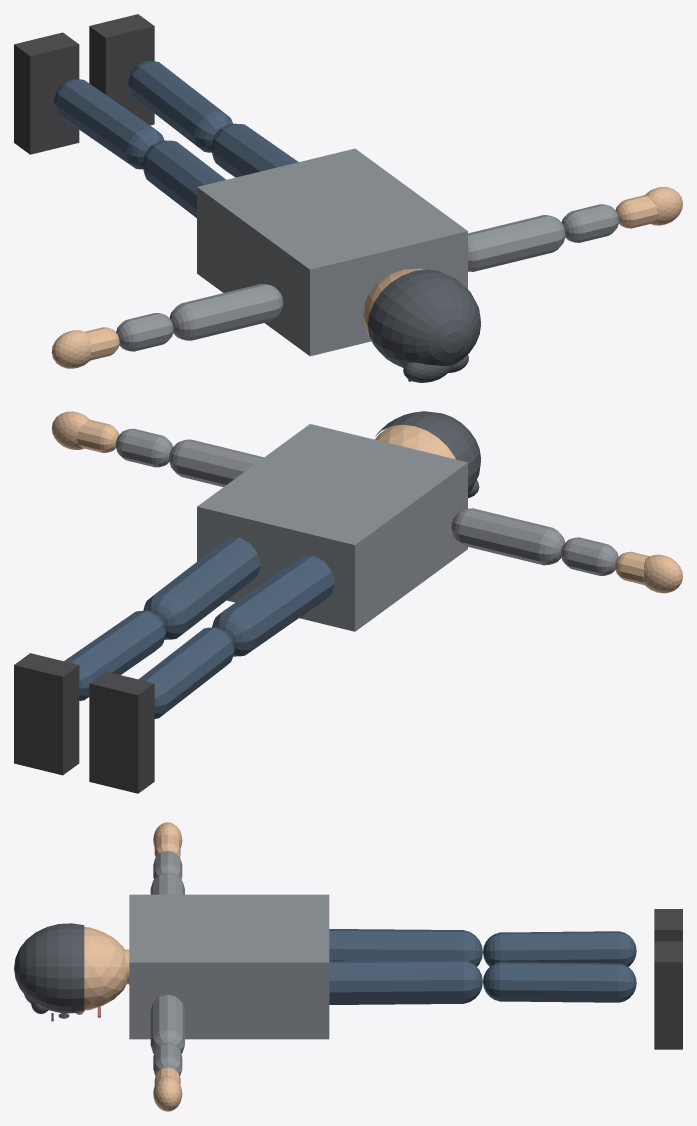
The model's file is CHAR_AVATAR_VARIANT_001.glb.
3 renders of one model, top to bottom at view 1: azimuth 30°, elevation 25°; view 2: azimuth 150°, elevation 25°; view 3: azimuth 270°, elevation 25°, orthographic. The views are drawn at different scales.
Parts seen in each view (by area): view 1: CHAR_AVATAR_VARIANT_001_torso_jacket, CHAR_AVATAR_VARIANT_001_hair_cap, CHAR_AVATAR_VARIANT_001_shoe_L, CHAR_AVATAR_VARIANT_001_shin_L, CHAR_AVATAR_VARIANT_001_shoe_R, CHAR_AVATAR_VARIANT_001_shin_R, CHAR_AVATAR_VARIANT_001_upper_arm_L, CHAR_AVATAR_VARIANT_001_upper_arm_R, CHAR_AVATAR_VARIANT_001_thigh_L, CHAR_AVATAR_VARIANT_001_thigh_R, CHAR_AVATAR_VARIANT_001_forearm_L, CHAR_AVATAR_VARIANT_001_forearm_R (+6 smaller); view 2: CHAR_AVATAR_VARIANT_001_torso_jacket, CHAR_AVATAR_VARIANT_001_shoe_R, CHAR_AVATAR_VARIANT_001_shoe_L, CHAR_AVATAR_VARIANT_001_thigh_L, CHAR_AVATAR_VARIANT_001_thigh_R, CHAR_AVATAR_VARIANT_001_upper_arm_L, CHAR_AVATAR_VARIANT_001_shin_L, CHAR_AVATAR_VARIANT_001_shin_R, CHAR_AVATAR_VARIANT_001_upper_arm_R, CHAR_AVATAR_VARIANT_001_hair_cap, CHAR_AVATAR_VARIANT_001_forearm_L, CHAR_AVATAR_VARIANT_001_forearm_R (+5 smaller); view 3: CHAR_AVATAR_VARIANT_001_torso_jacket, CHAR_AVATAR_VARIANT_001_thigh_R, CHAR_AVATAR_VARIANT_001_shin_R, CHAR_AVATAR_VARIANT_001_hair_cap, CHAR_AVATAR_VARIANT_001_thigh_L, CHAR_AVATAR_VARIANT_001_shin_L, CHAR_AVATAR_VARIANT_001_shoe_R, CHAR_AVATAR_VARIANT_001_head, CHAR_AVATAR_VARIANT_001_upper_arm_R, CHAR_AVATAR_VARIANT_001_shoe_L, CHAR_AVATAR_VARIANT_001_hand_R, CHAR_AVATAR_VARIANT_001_forearm_R (+3 smaller).
Boxes of the visible parts, x1,y1,x2,y2 form: CHAR_AVATAR_VARIANT_001_torso_jacket: (197,148,467,356); CHAR_AVATAR_VARIANT_001_hair_cap: (367,269,480,367); CHAR_AVATAR_VARIANT_001_shoe_L: (14,32,79,154); CHAR_AVATAR_VARIANT_001_shin_L: (54,79,163,169); CHAR_AVATAR_VARIANT_001_shoe_R: (89,14,154,125); CHAR_AVATAR_VARIANT_001_shin_R: (128,61,232,152); CHAR_AVATAR_VARIANT_001_upper_arm_L: (169,284,283,340); CHAR_AVATAR_VARIANT_001_upper_arm_R: (468,215,565,271); CHAR_AVATAR_VARIANT_001_thigh_L: (142,140,225,217); CHAR_AVATAR_VARIANT_001_thigh_R: (211,123,298,177); CHAR_AVATAR_VARIANT_001_forearm_L: (116,313,173,351); CHAR_AVATAR_VARIANT_001_forearm_R: (561,204,618,242); CHAR_AVATAR_VARIANT_001_torso_jacket: (197,424,467,631); CHAR_AVATAR_VARIANT_001_shoe_R: (14,653,79,775); CHAR_AVATAR_VARIANT_001_shoe_L: (89,671,154,793); CHAR_AVATAR_VARIANT_001_thigh_L: (212,555,334,656); CHAR_AVATAR_VARIANT_001_thigh_R: (143,537,260,639); CHAR_AVATAR_VARIANT_001_upper_arm_L: (451,508,565,565); CHAR_AVATAR_VARIANT_001_shin_L: (138,627,234,718); CHAR_AVATAR_VARIANT_001_shin_R: (64,610,165,700); CHAR_AVATAR_VARIANT_001_upper_arm_R: (169,439,263,486); CHAR_AVATAR_VARIANT_001_hair_cap: (375,411,480,493); CHAR_AVATAR_VARIANT_001_forearm_L: (561,537,618,575); CHAR_AVATAR_VARIANT_001_forearm_R: (115,428,172,467); CHAR_AVATAR_VARIANT_001_torso_jacket: (129,894,329,1039); CHAR_AVATAR_VARIANT_001_thigh_R: (329,959,482,1004); CHAR_AVATAR_VARIANT_001_shin_R: (483,962,636,1002); CHAR_AVATAR_VARIANT_001_hair_cap: (14,923,84,1013); CHAR_AVATAR_VARIANT_001_thigh_L: (329,929,482,966); CHAR_AVATAR_VARIANT_001_shin_L: (483,931,636,966); CHAR_AVATAR_VARIANT_001_shoe_R: (654,941,682,1049); CHAR_AVATAR_VARIANT_001_head: (84,927,127,1010); CHAR_AVATAR_VARIANT_001_upper_arm_R: (150,994,184,1053); CHAR_AVATAR_VARIANT_001_shoe_L: (654,909,682,941); CHAR_AVATAR_VARIANT_001_hand_R: (153,1075,182,1111); CHAR_AVATAR_VARIANT_001_forearm_R: (153,1043,182,1075).
Bounding box in the file's own units: 1.71 × 0.2766 × 1.78.
